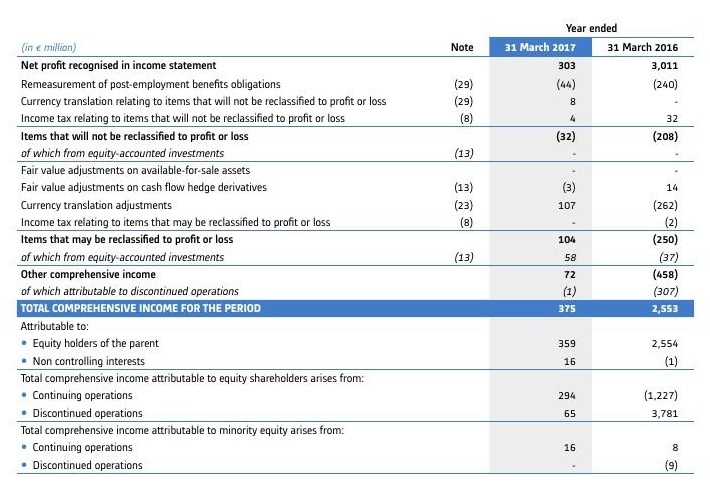table: (0, 0, 710, 487)
